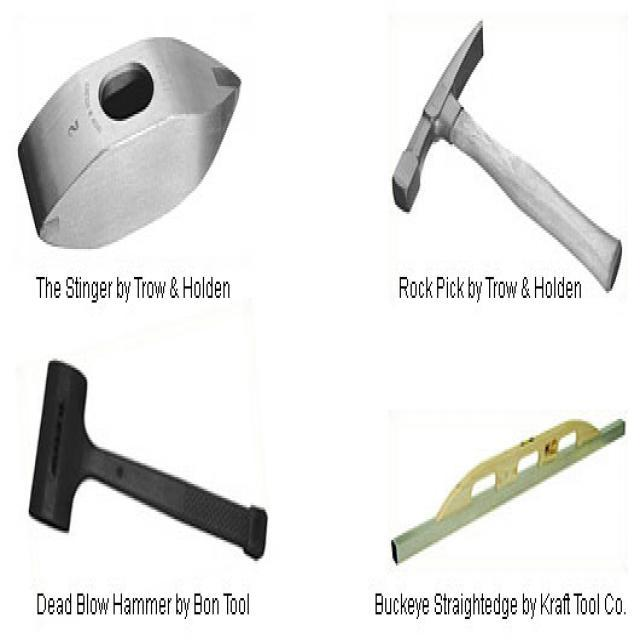hammer: (382, 9, 629, 302), (21, 344, 270, 572)
